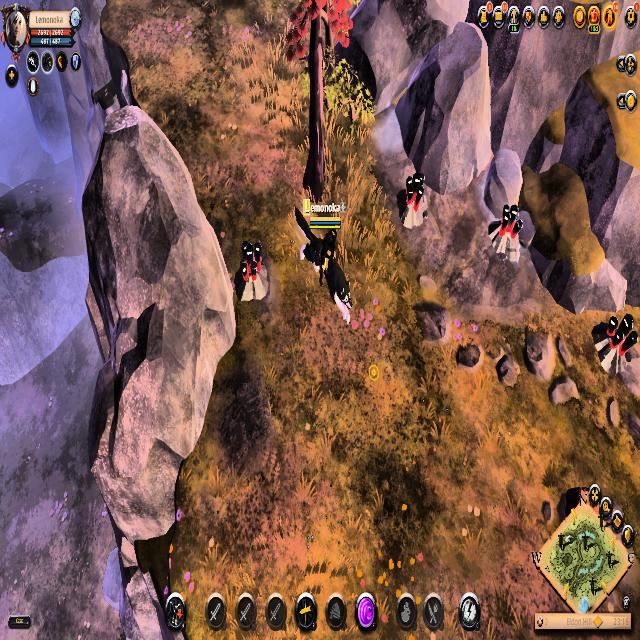ore tier 5: (592, 310, 640, 372), (233, 242, 271, 306), (490, 202, 524, 268), (396, 171, 430, 230)
